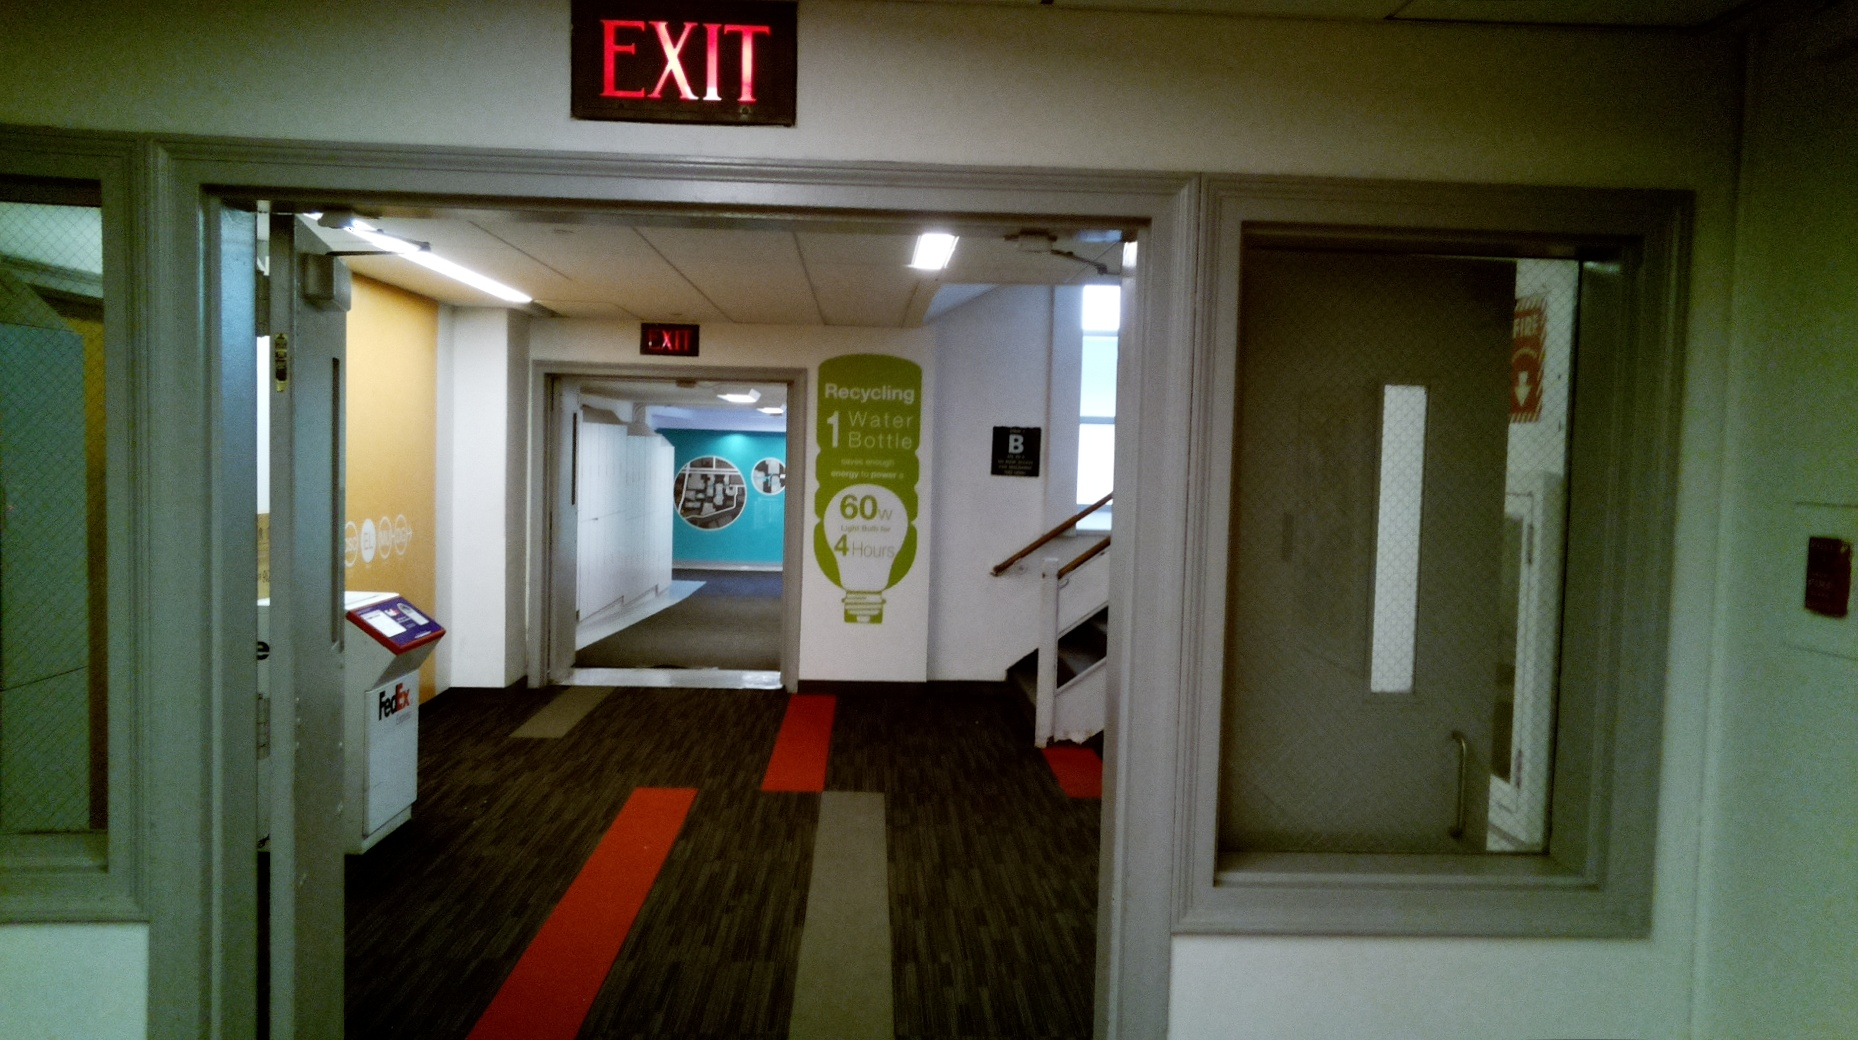exit sign: (561, 1, 806, 131), (638, 319, 702, 360)
